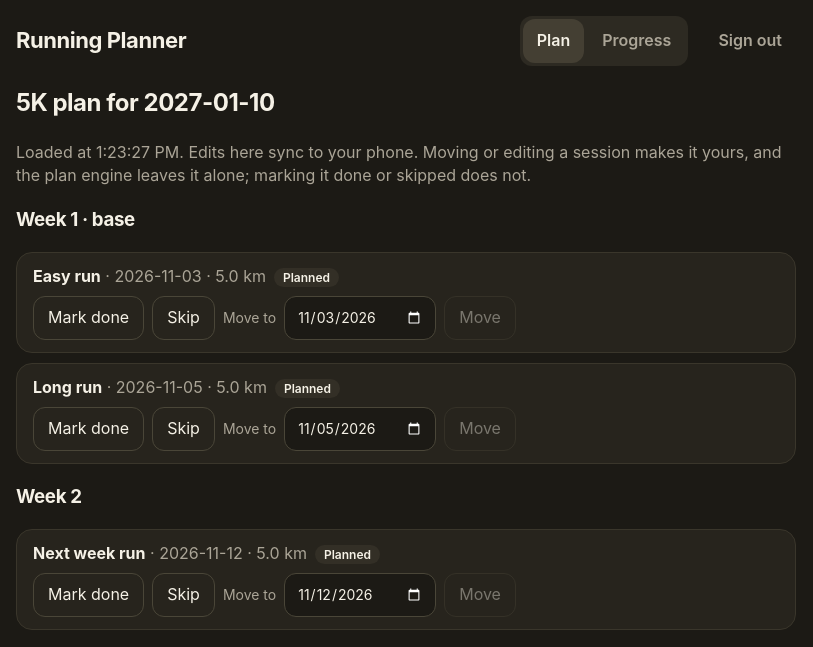
Test: progress and signing out › signs out and returns to the sign-in form
Click the button "Sign out": [750, 41] box [704,19,796,63]
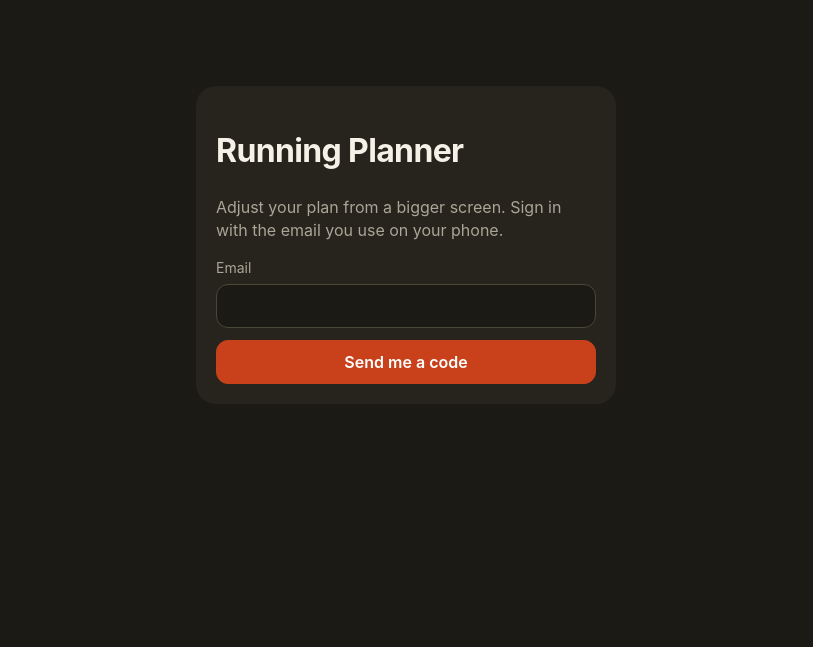
Now the field labelled "Email" is shown, box [216,284,596,328]
